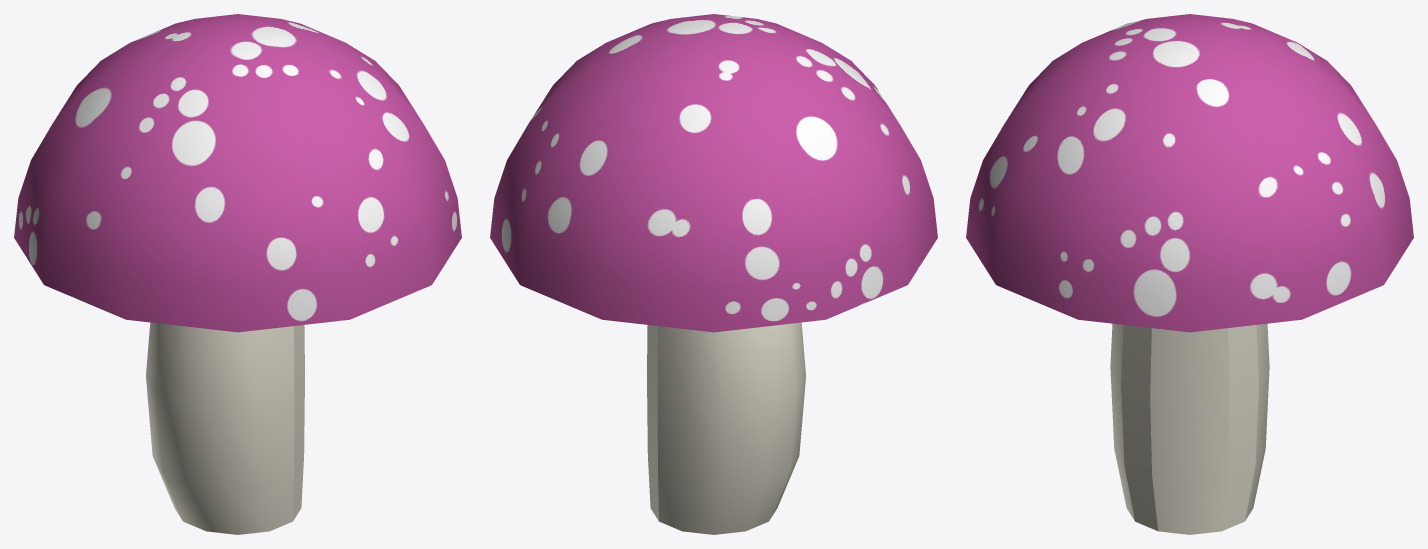
Rendered from shroom.fbx.
3 views of the same model, side by side, from view 1: azimuth 30°, elevation 25°; view 2: azimuth 150°, elevation 25°; view 3: azimuth 270°, elevation 25° (orthographic).
Parts seen in each view (by area): view 1: shroom; view 2: shroom; view 3: shroom.
Boxes of the visible parts, x1,y1,x2,y2 form: shroom: [14, 14, 461, 534]; shroom: [490, 14, 937, 534]; shroom: [966, 14, 1413, 534].
Bounding box in the file's own units: 2 × 2.33 × 2.
